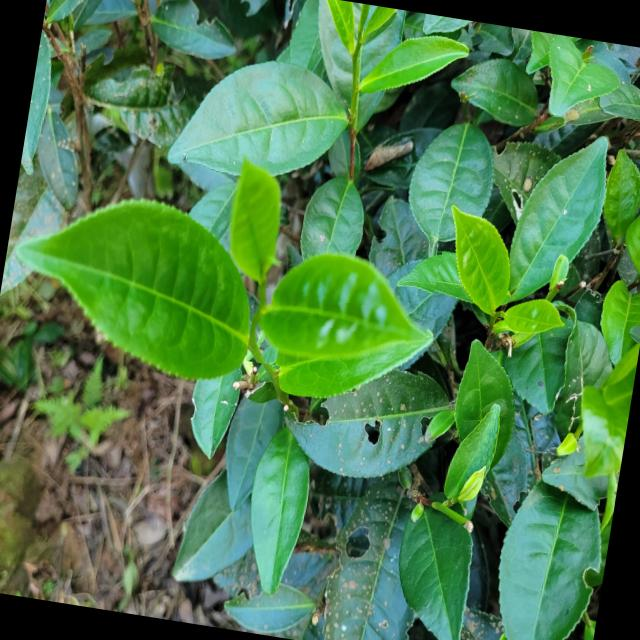Catagory A(1-2 days): (246, 218, 443, 388)
